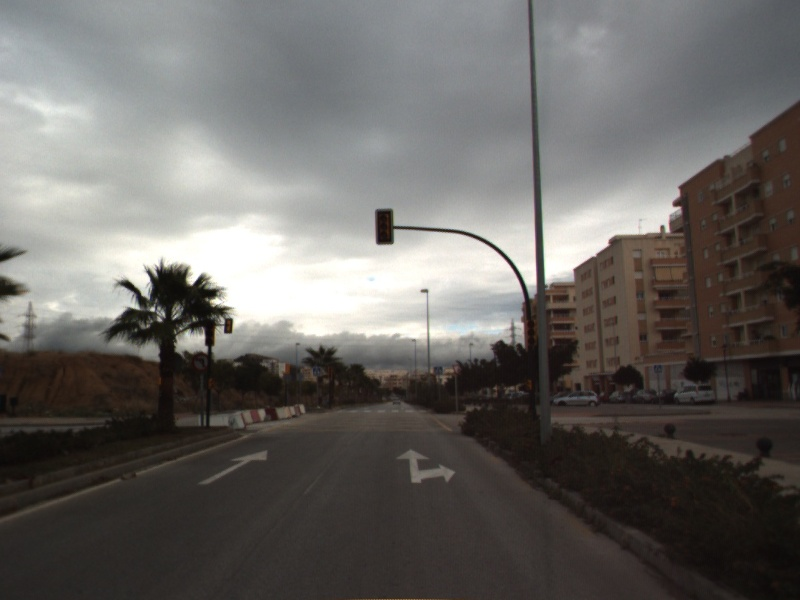STRAIGHT: (196, 448, 269, 486)
STRAIGHT_RIGHT: (394, 447, 458, 485)
